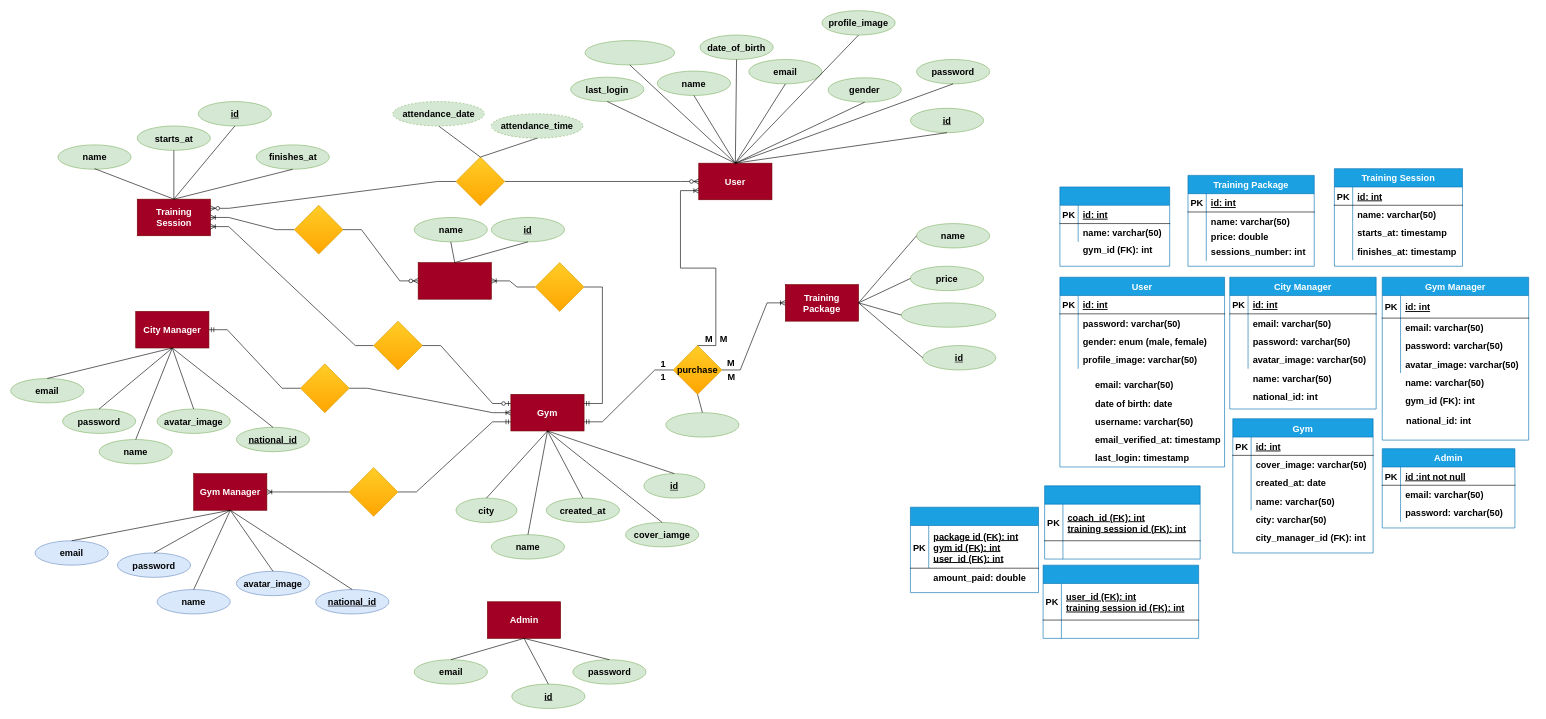
The diagram is 1546 pixels wide and 719 high, and some of its shapes have lost their labels. Each missing label, with the box of its shape:
amount_paid: (665, 412, 739, 437)
attends: (455, 156, 505, 206)
Coach: (1059, 186, 1170, 266)
coach_session: (1044, 485, 1200, 559)
Coaches: (418, 262, 491, 299)
email_verified_at: (584, 40, 675, 65)
has: (373, 321, 422, 370)
manages: (349, 467, 398, 516)
package_purchase: (910, 507, 1039, 593)
session_use: (1042, 565, 1199, 638)
sessions_number: (901, 302, 996, 327)
supervise: (300, 363, 349, 413)
train: (294, 205, 343, 254)
work_on: (535, 262, 584, 311)
